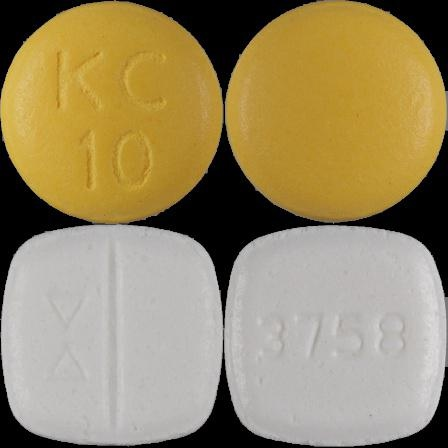53808-0375: (0, 0, 224, 224)
